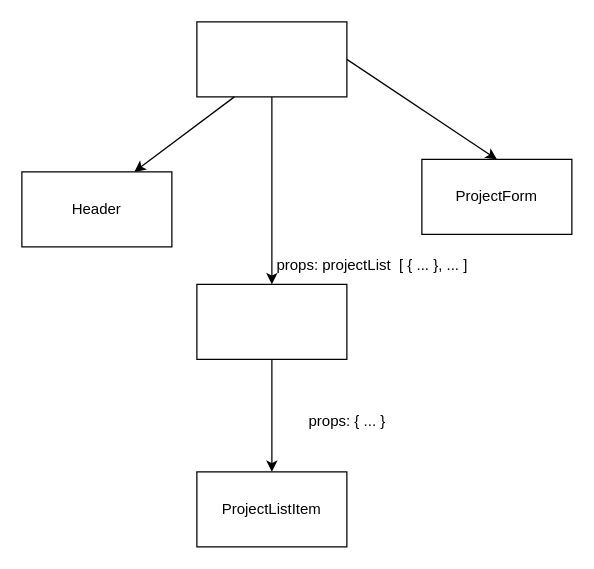
Image size: 594x569. Some labels were removed from this diagram. Here are the shapes that lost their labels. From the top down, the centre of each, then its label:
(x=271, y=59): App
(x=271, y=321): ProjectList
